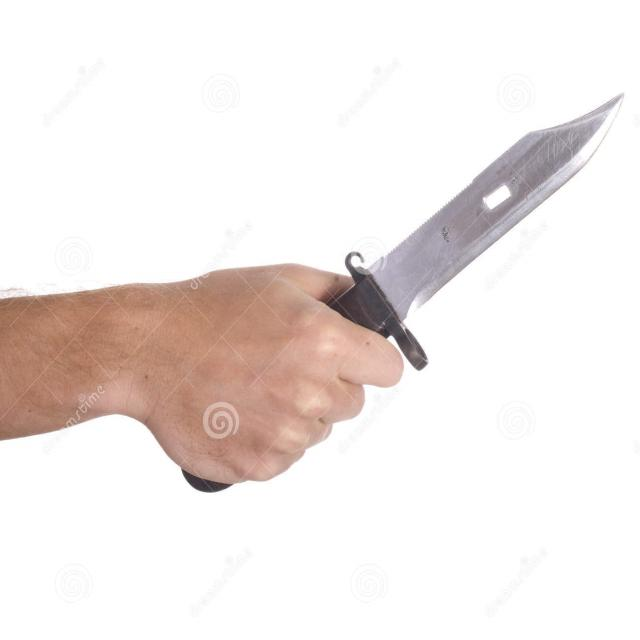knife: (339, 81, 634, 381)
